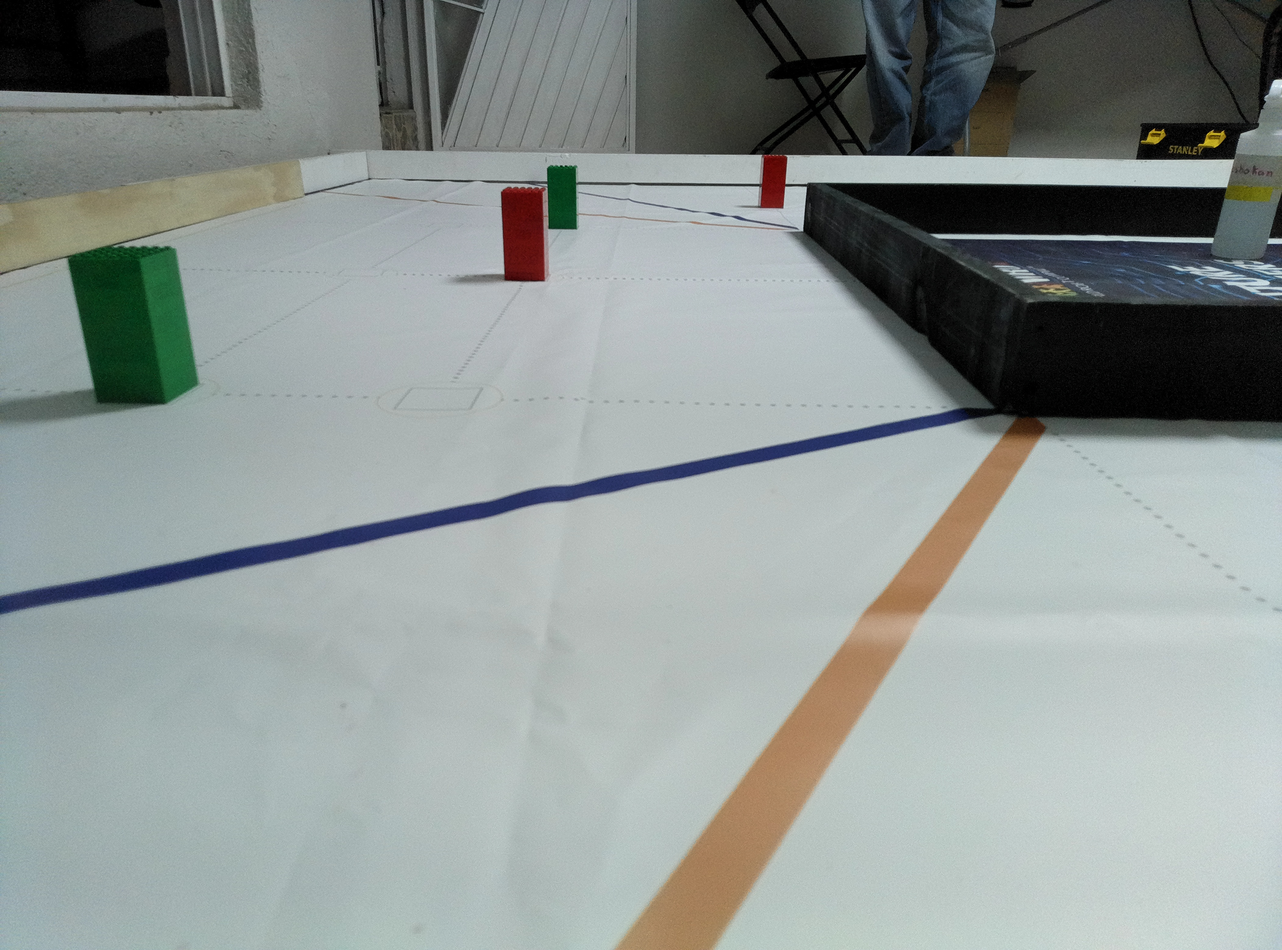greenbox: (64, 243, 201, 406), (546, 164, 580, 231)
redbox: (497, 186, 550, 283), (756, 153, 788, 209)
